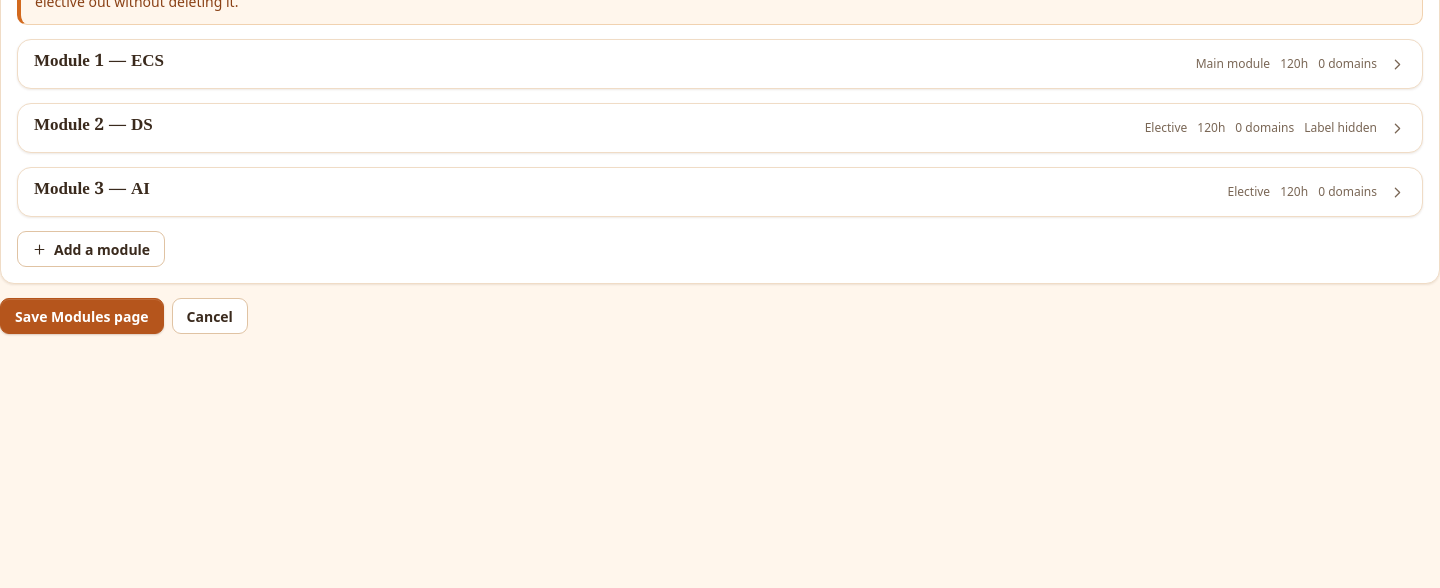
Modules page 'Elective' label tick box › is offered only on Elective modules
What coordinates should you click on to do the following:
click the button "Module 1 — ECS Main module 120h 0 domains"
I would click on:
 (64, 64)
Its box is [18, 40, 1422, 88].
(page scrolled)
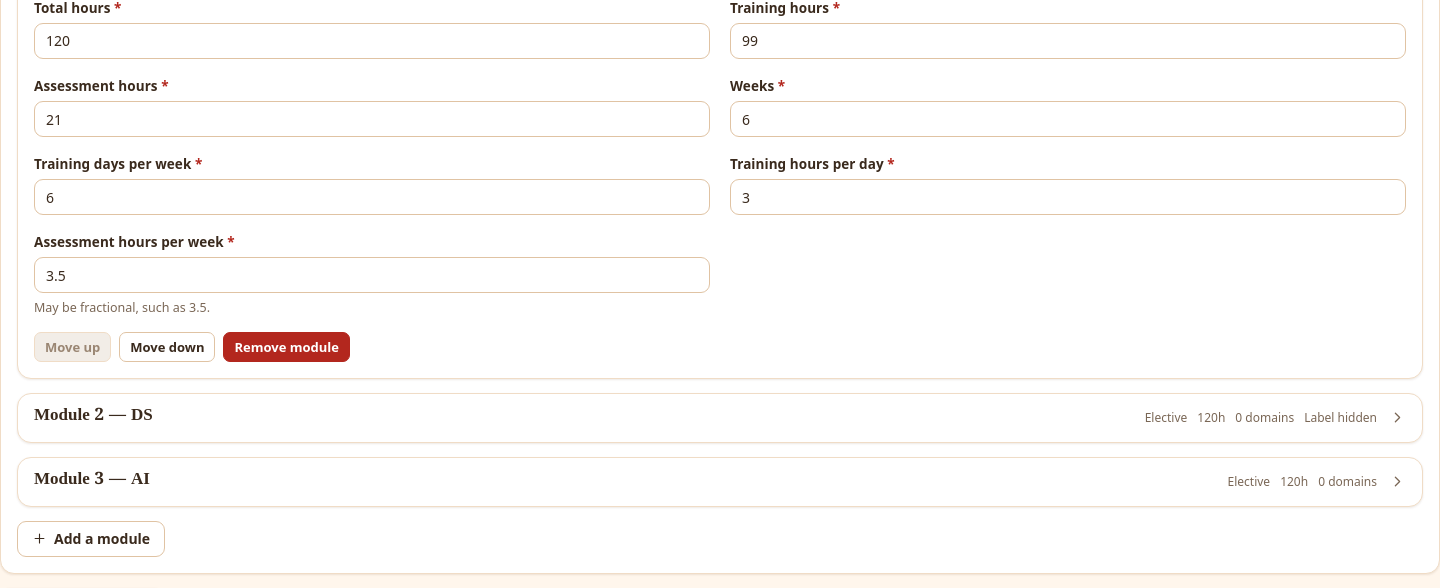
What coordinates should you click on to do the following:
click the button "Module 2 — DS Elective 120h 0 domains Label hidden"
I would click on:
 (64, 417)
Its box is [18, 394, 1422, 442].
(page scrolled)
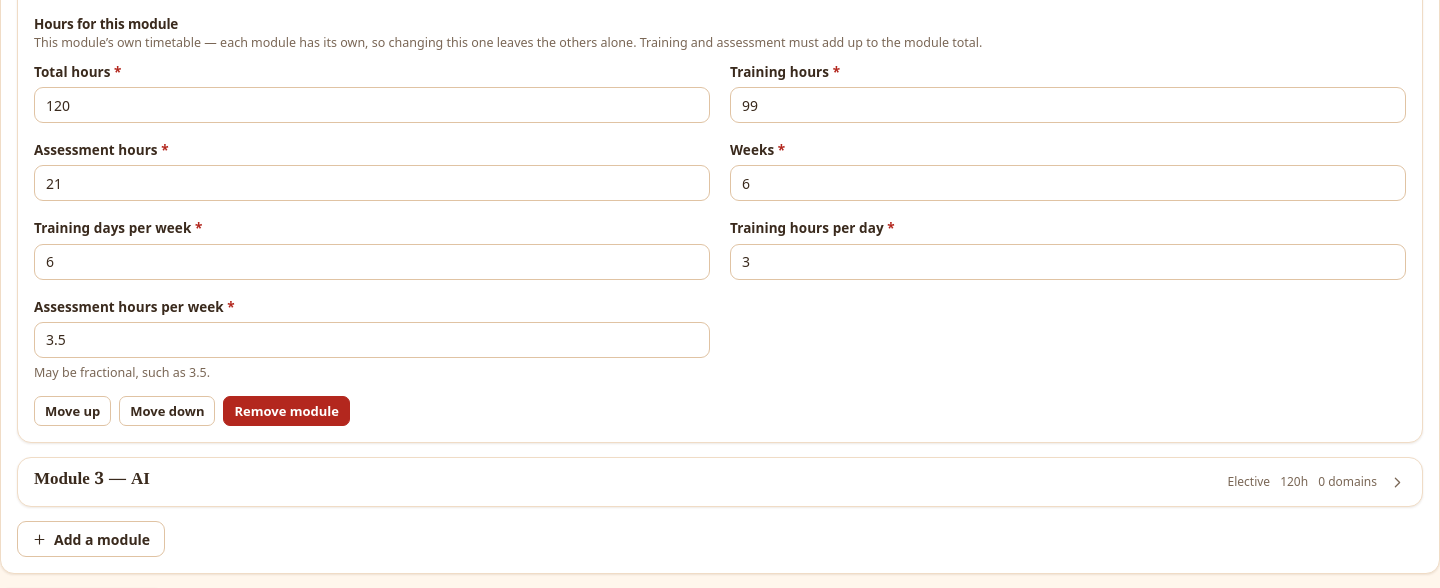
What coordinates should you click on to do the following:
click the button "Module 3 — AI Elective 120h 0 domains"
I would click on:
 (64, 482)
Its box is [18, 458, 1422, 506].
(page scrolled)
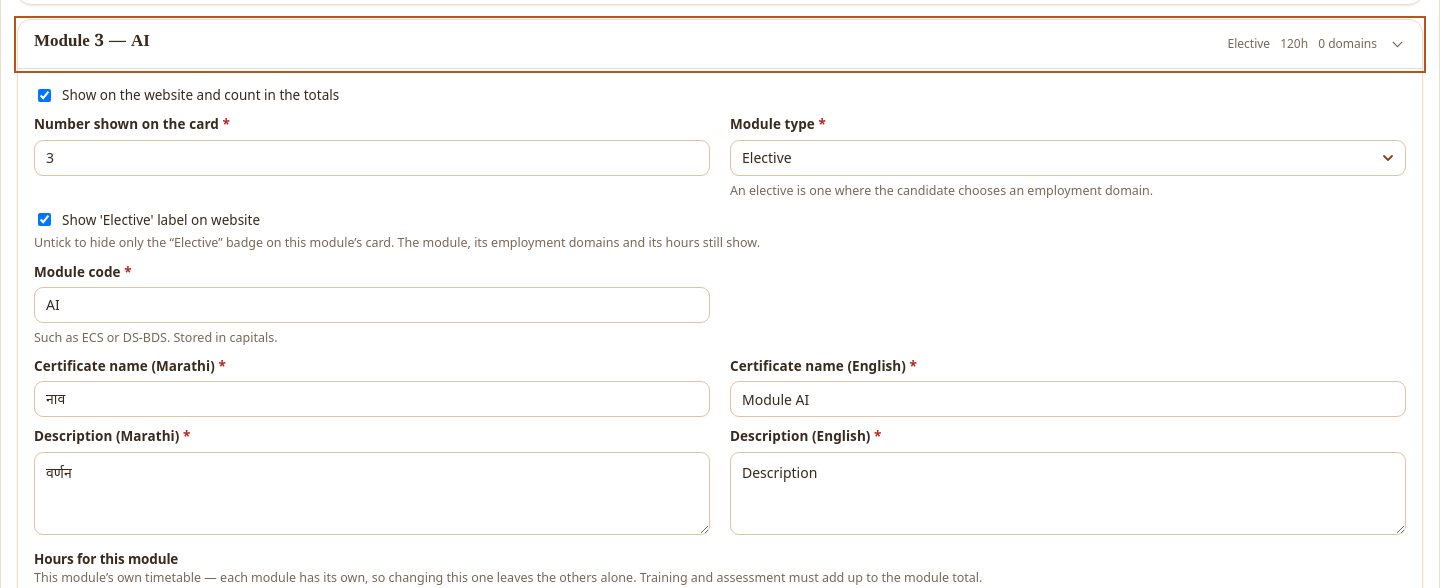
Result: the checkbox labelled "Show 'Elective' label on website" is shown at [38, 213, 51, 226]
Result: the number of checkboxes labelled "Show 'Elective' label on website" is 2
